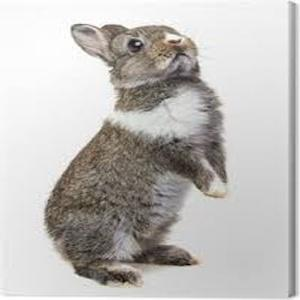rabbit: (44, 24, 227, 284)
